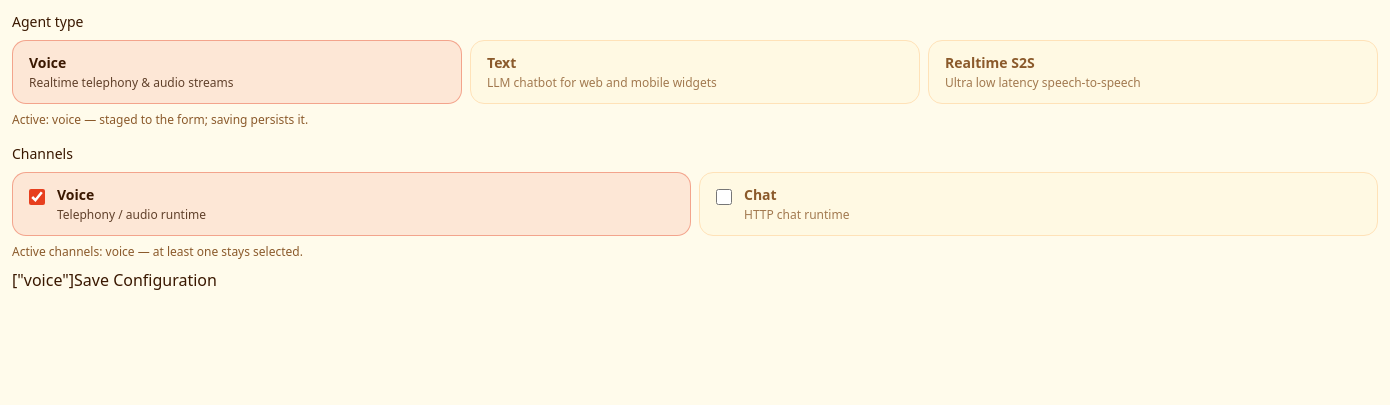
it: ChannelSwitcher hybrid emission e2e (spec 0045 Slice B) › shows the staged banner with hybrid copy on divergence
Expected: the text "(hybrid)" is not shown
Click the checkbox named "Chat channel" at point(724, 197), box [716,189,732,205]
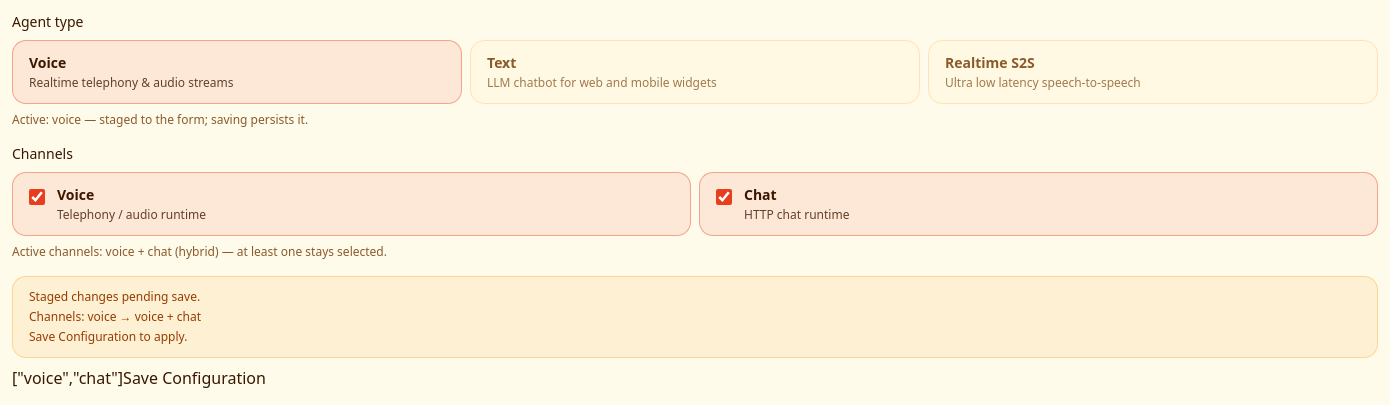
Expected: the text "voice + chat (hybrid)" is shown, [12,243,387,260]
Expected: the message shows "Staged changes pending save.", [29,288,200,305]
Expected: the message shows "Channels: voice → voice + chat", [12,276,1378,358]
